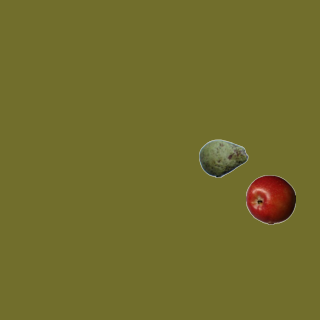Apple Braeburn: (245, 174, 295, 224)
Pear Stone: (198, 133, 248, 183)
